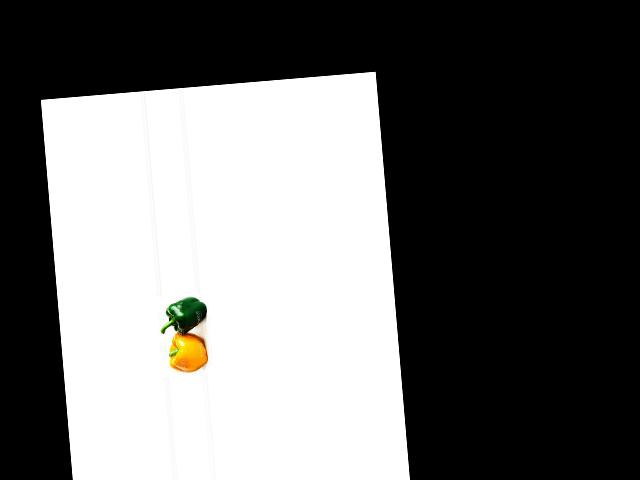bell_pepper: (161, 292, 214, 334)
